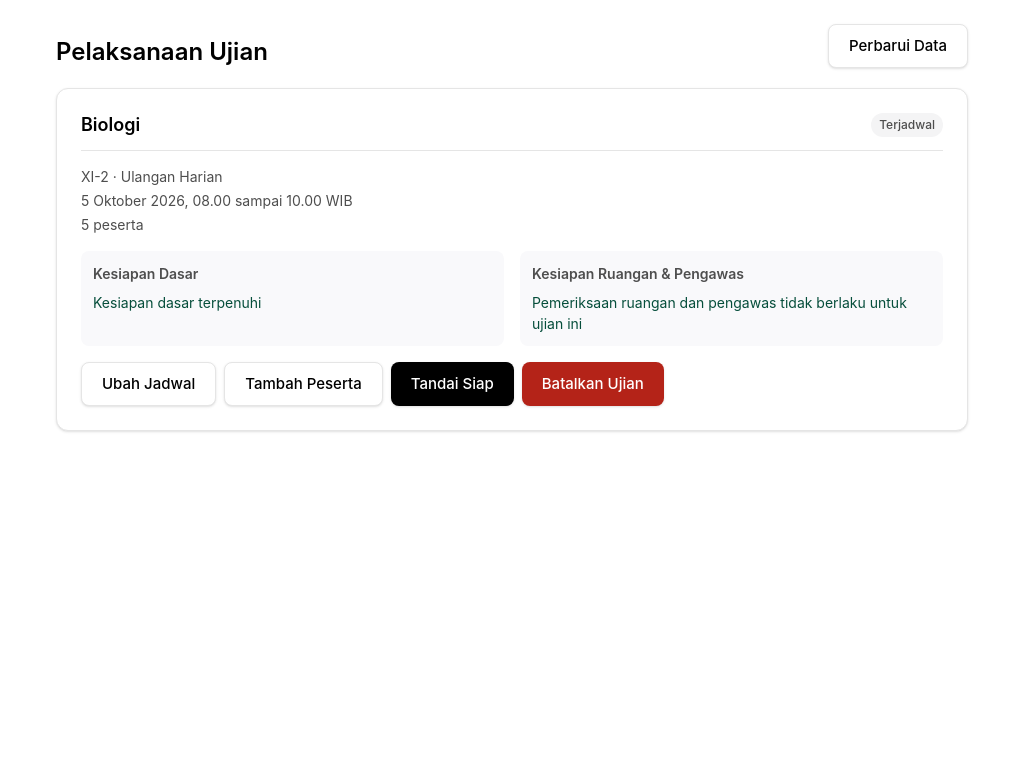
Test case: adding participants on the teacher screen › keeps the dialog and the key after a lost connection or a refusal, reading the list again after a refusal
Click the button "Tambah Peserta" at (303, 384), box [224,362,383,406]
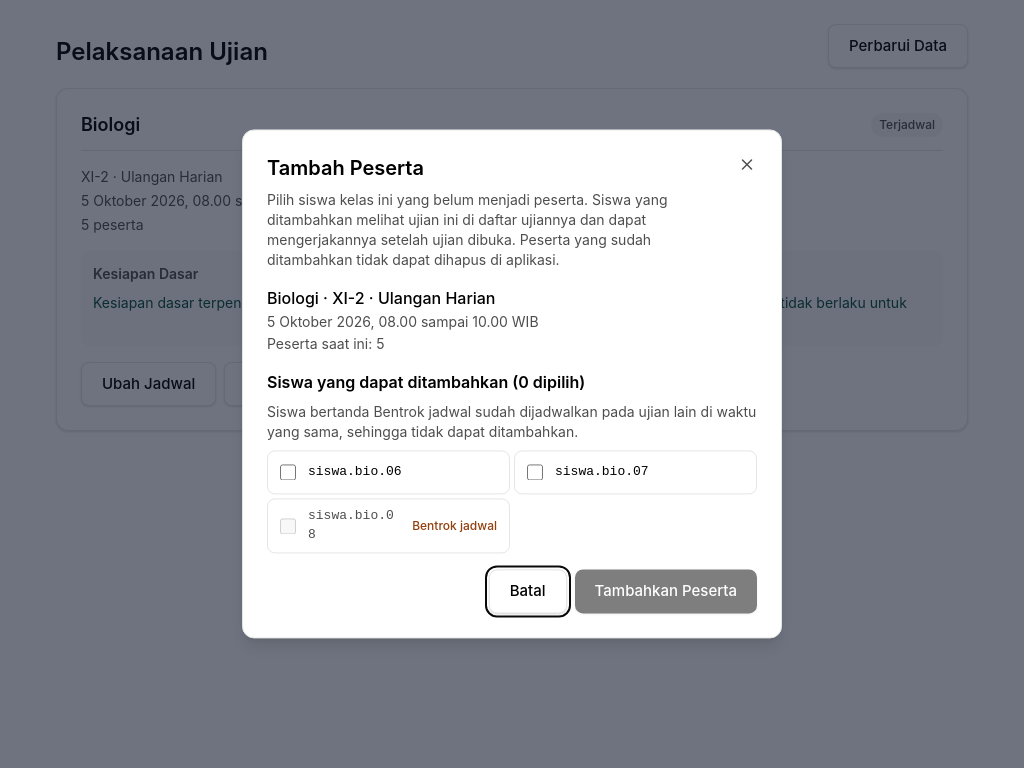
Click the checkbox labelled "siswa.bio.06" at (288, 472), box [280,464,296,480]
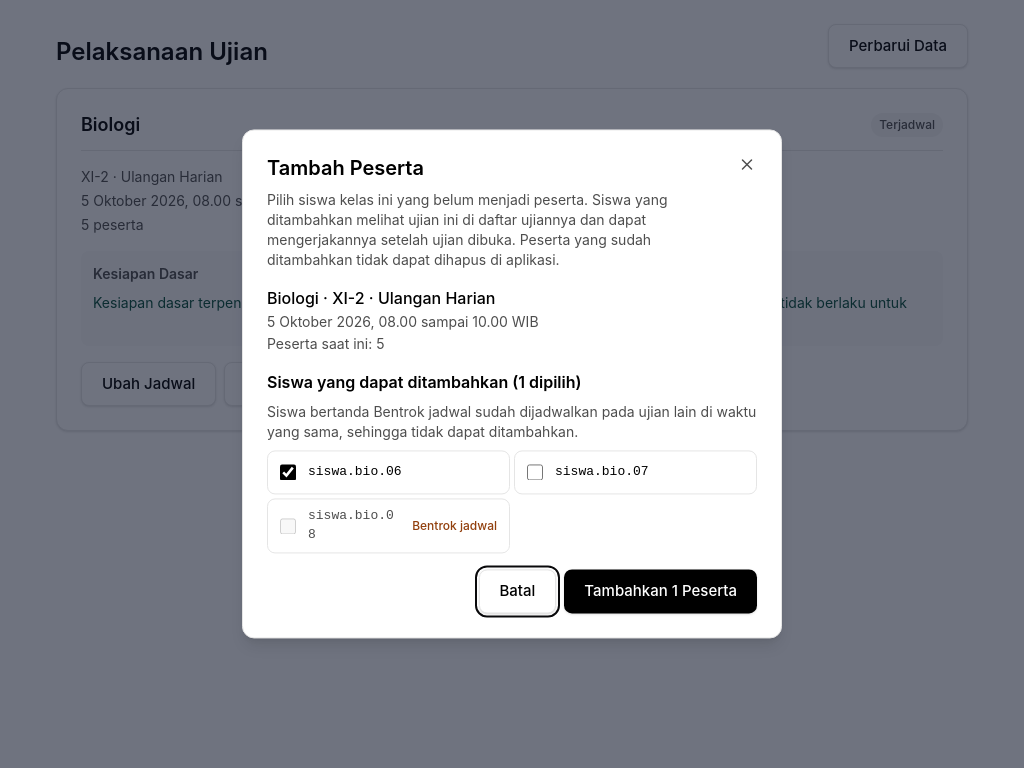
Click the checkbox labelled "siswa.bio.07" at (535, 472), box [527,464,543,480]
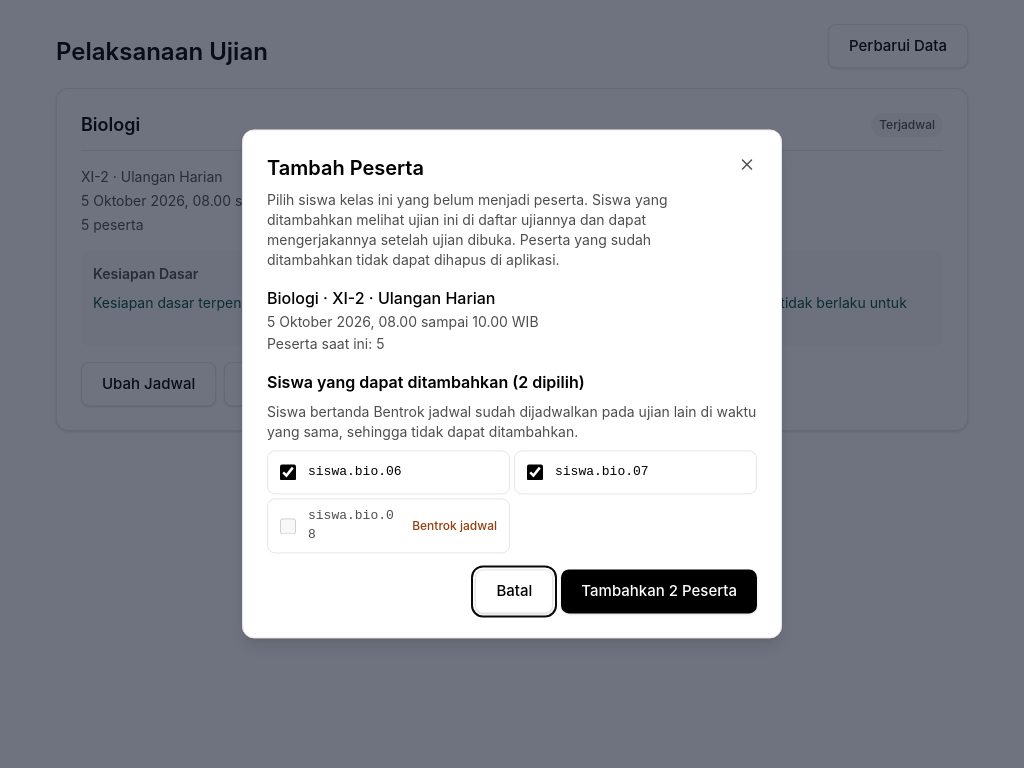
Click the button "Tambahkan 2 Peserta" at (659, 592), box [561,570,757,614]
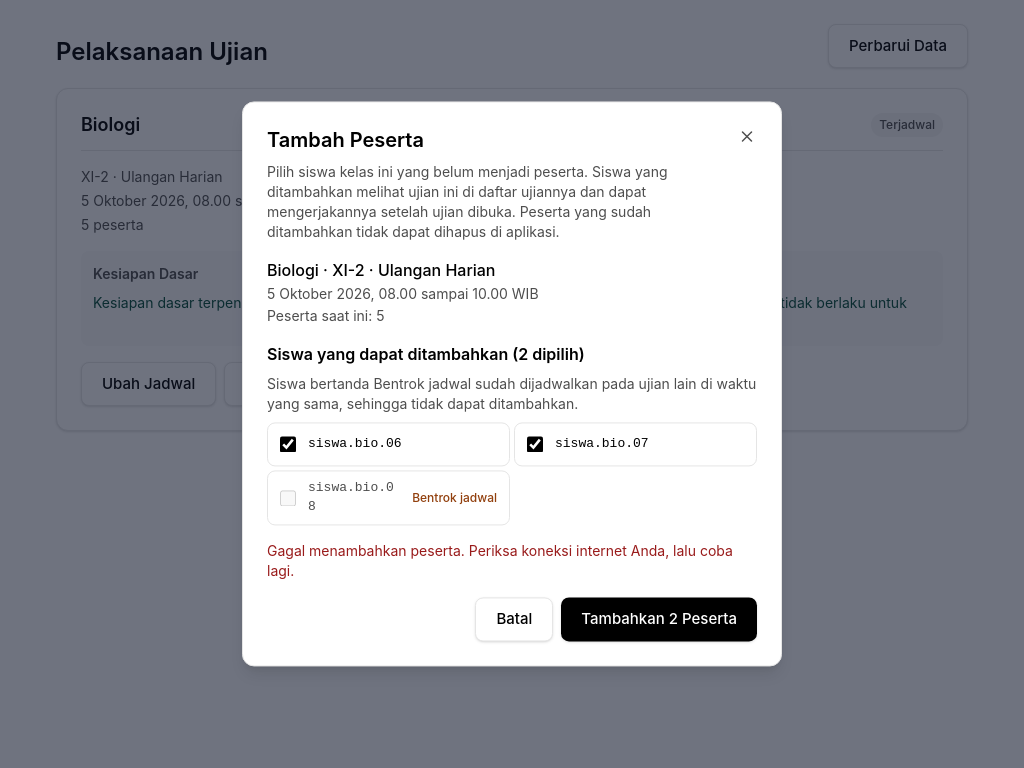
Expected: the text "Gagal menambahkan peserta. Periksa koneksi internet Anda, lalu coba lagi." is shown, [267,542,757,582]
Click the button "Tambahkan 2 Peserta" at (659, 620), box [561,598,757,642]
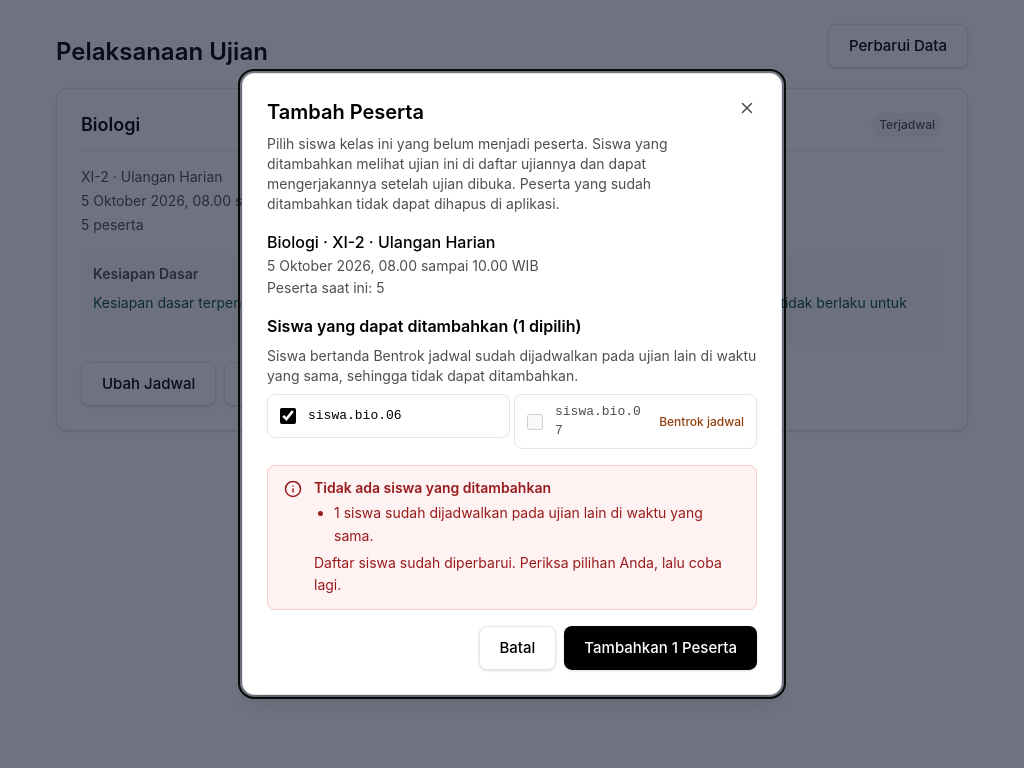
Expected: the text "Tidak ada siswa yang ditambahkan" is shown, [314,479,551,496]
Expected: the list item "1 siswa sudah dijadwalkan pada ujian lain di waktu yang sama." is shown, [334,502,740,548]
Expected: the checkbox labelled "siswa.bio.07 Bentrok jadwal" is disabled, [527,414,543,430]
Click the button "Tambahkan 1 Peserta" at (661, 648), box [564,626,757,670]
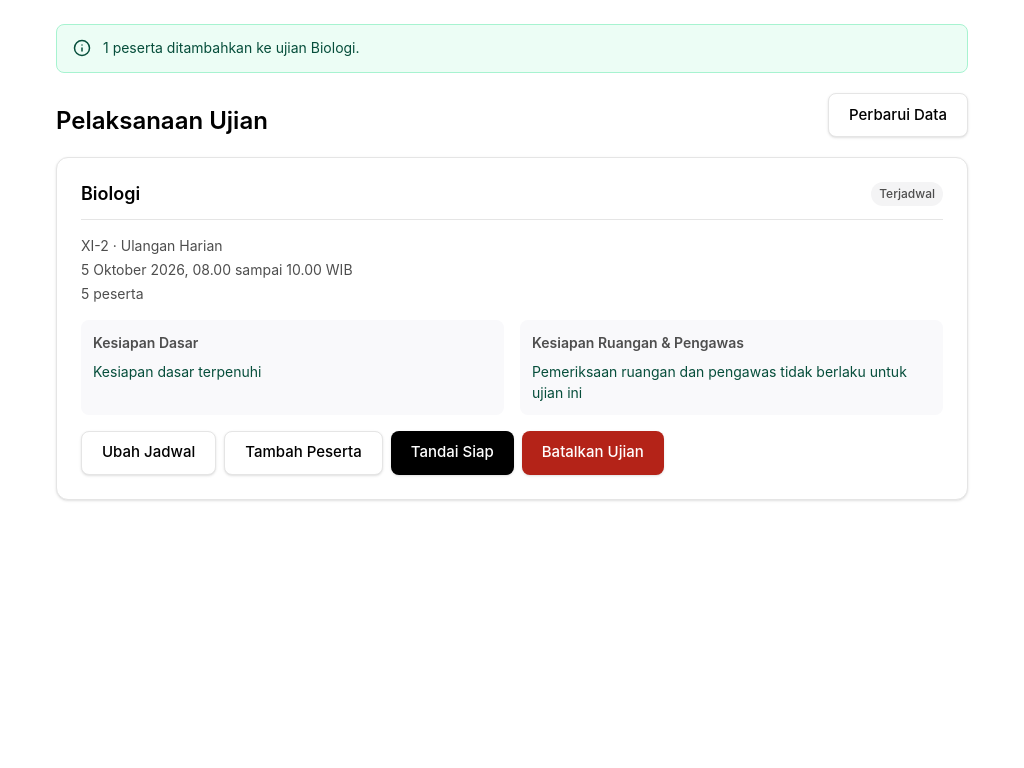
Expected: the text "1 peserta ditambahkan ke ujian Biologi." is shown, [103,39,360,56]
